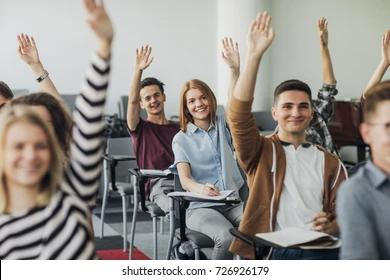study: (0, 0, 112, 259), (227, 11, 345, 241), (173, 35, 247, 195), (123, 42, 178, 172)
